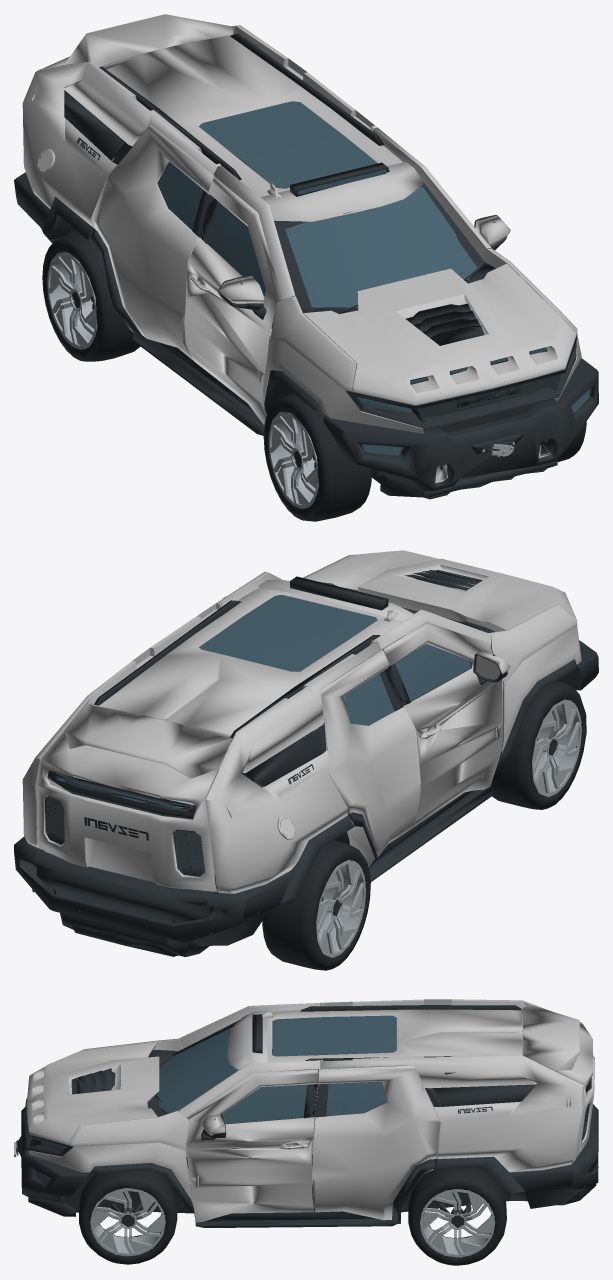
The model's file is armored-suv.glb.
3 views of the same model, one above another, from view 1: azimuth 30°, elevation 25°; view 2: azimuth 150°, elevation 25°; view 3: azimuth 270°, elevation 25° (orthographic). The views are drawn at different scales.
Parts seen in each view (by area): view 1: paint, trim, glass, front right tire, rear right tire, rear right alloy, front right alloy; view 2: paint, trim, glass, rear right tire, front right tire, rear right alloy, front right alloy; view 3: paint, trim, glass, rear left tire, front left tire, rear left alloy, front left alloy.
Boxes of the visible parts, left/top/right/bottom form: paint: left=22, top=14, right=581, bottom=433; trim: left=14, top=33, right=598, bottom=499; glass: left=157, top=101, right=589, bottom=455; front right tire: left=263, top=393, right=371, bottom=521; rear right tire: left=42, top=232, right=140, bottom=361; rear right alloy: left=47, top=252, right=97, bottom=349; front right alloy: left=268, top=412, right=318, bottom=508; paint: left=22, top=550, right=581, bottom=893; trim: left=14, top=570, right=598, bottom=956; glass: left=59, top=594, right=470, bottom=808; rear right tire: left=262, top=840, right=370, bottom=970; front right tire: left=489, top=681, right=586, bottom=809; rear right alloy: left=316, top=859, right=365, bottom=957; front right alloy: left=532, top=699, right=581, bottom=797; paint: left=26, top=999, right=594, bottom=1222; trim: left=16, top=1005, right=598, bottom=1228; glass: left=35, top=1015, right=588, bottom=1183; rear left tire: left=408, top=1167, right=506, bottom=1265; front left tire: left=79, top=1170, right=177, bottom=1264; rear left alloy: left=420, top=1189, right=495, bottom=1257; front left alloy: left=90, top=1188, right=165, bottom=1256.
Bounding box in the file's own units: 2.12 × 1.8 × 5.
